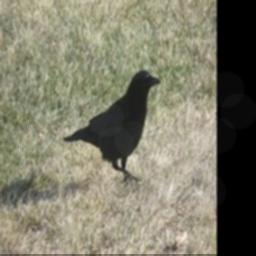Crow: (66, 66, 164, 180)
